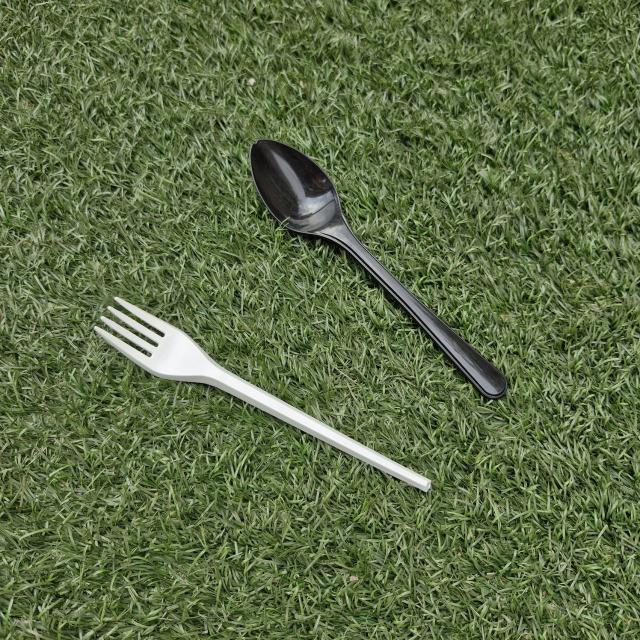plastic: (85, 285, 449, 500), (245, 142, 520, 411)
